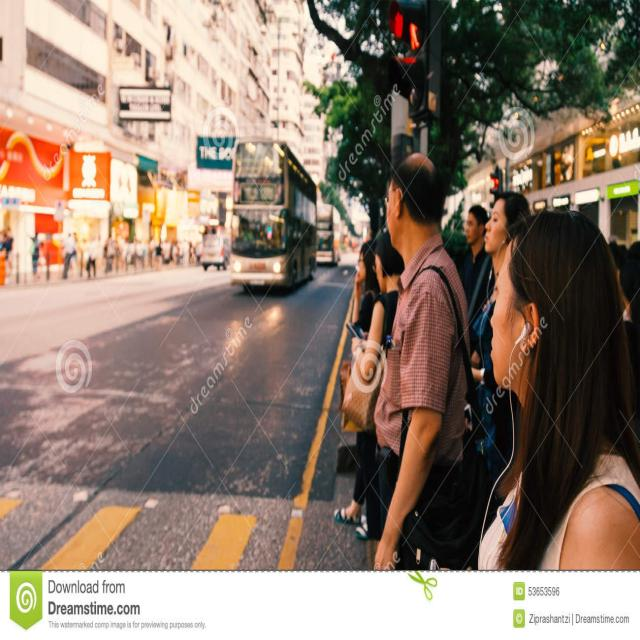body: (476, 205, 640, 572), (366, 149, 475, 639), (338, 230, 406, 548), (468, 188, 532, 471), (333, 237, 381, 542), (75, 221, 205, 283), (606, 236, 640, 454), (460, 202, 494, 370), (0, 220, 16, 280), (28, 229, 44, 279), (60, 228, 75, 280), (238, 215, 258, 249)
